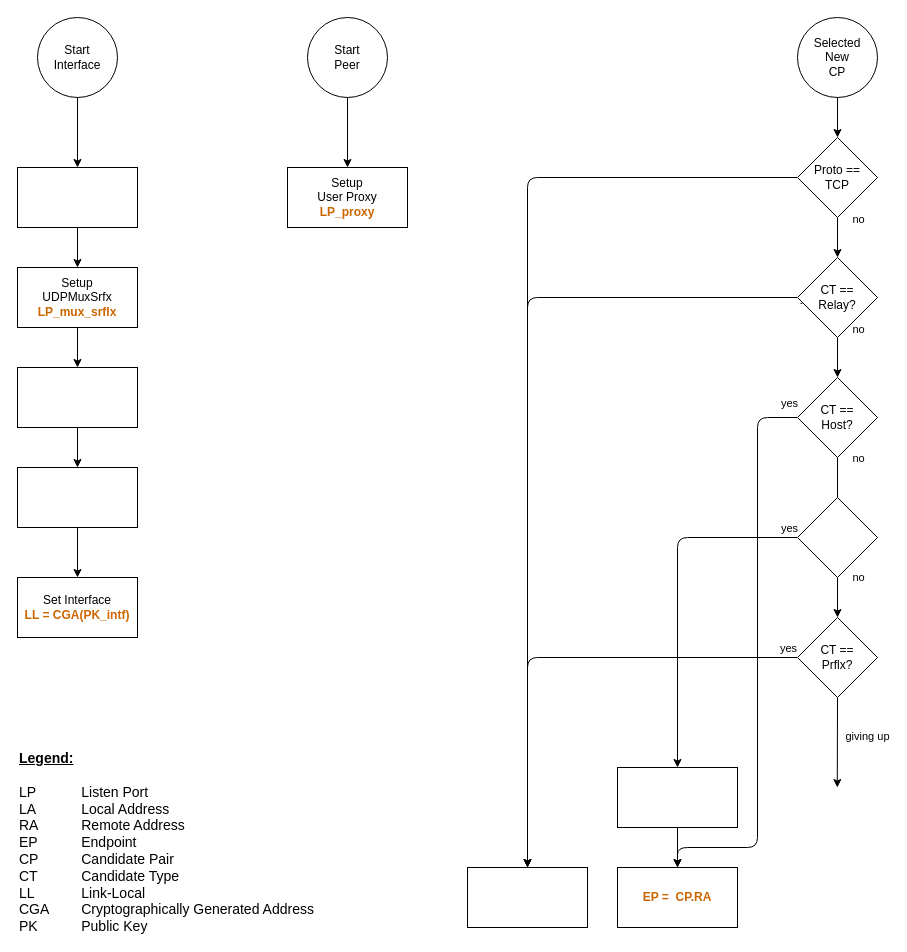
Image size: 907x952. Some labels were removed from this diagram. The shapes that lost their labels are listed below. From the top down, each one's centre as x and y in pixels, then its label:
At (77,197): "Setup UDPMux LP_mux".
At (77,397): "Setup Port DNAT LP_mux_srflx -> LP_mux".
At (77,497): "Set ListenPort to LP_mux".
At (837,537): "CT == Srflx?".
At (677,797): "Setup Port SNAT LP_mux -> LP_mux_srflx if DA == CP.RA".
At (527,897): "EP = [::1]:LP_proxy".
